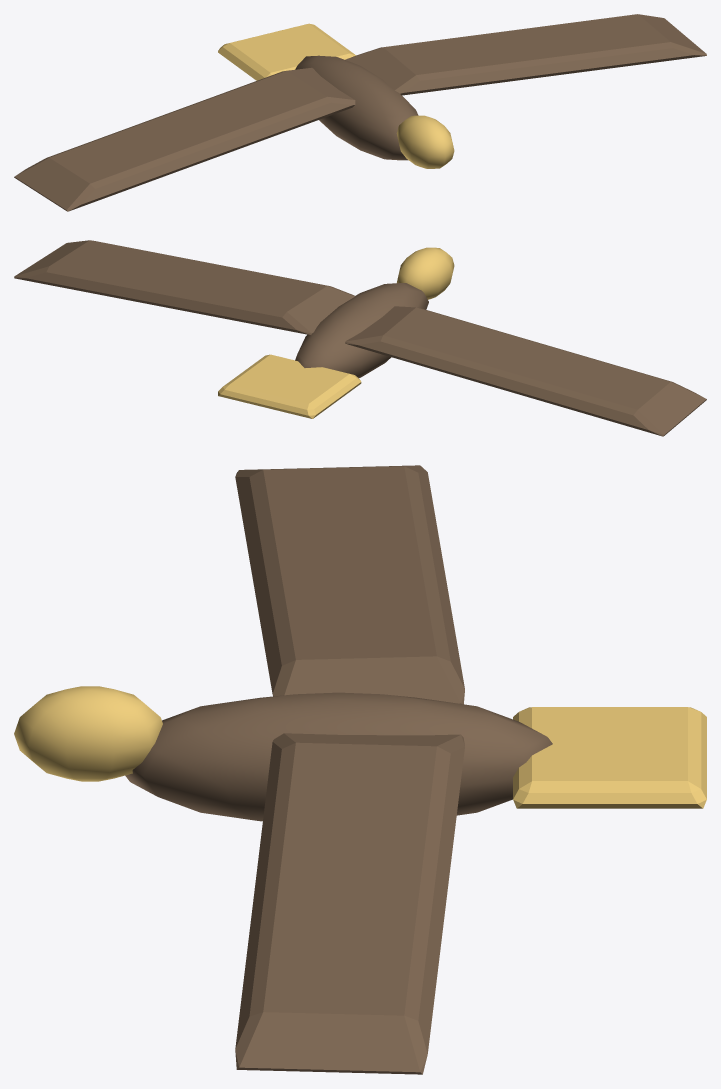
File: Caucasian_Golden_Eagle.glb
3 renders of one model, top to bottom at view 1: azimuth 30°, elevation 25°; view 2: azimuth 150°, elevation 25°; view 3: azimuth 270°, elevation 25°, orthographic. The views are drawn at different scales.
Visible parts, largest first — view 1: WingL, WingR, EagleTorso, TailFan, EagleHead; view 2: WingL, WingR, EagleTorso, TailFan, EagleHead; view 3: WingR, WingL, EagleTorso, TailFan, EagleHead.
Part boxes in pixels (left/top/right/bottom): WingL: left=14, top=67, right=355, bottom=211; WingR: left=345, top=14, right=706, bottom=95; EagleTorso: left=295, top=55, right=418, bottom=160; TailFan: left=218, top=23, right=355, bottom=80; EagleHead: left=396, top=115, right=454, bottom=168; WingL: left=345, top=306, right=706, bottom=436; WingR: left=14, top=240, right=355, bottom=335; EagleTorso: left=295, top=283, right=428, bottom=377; TailFan: left=218, top=354, right=361, bottom=418; EagleHead: left=397, top=247, right=454, bottom=299; WingR: left=235, top=733, right=464, bottom=1074; WingL: left=235, top=465, right=464, bottom=704; EagleTorso: left=125, top=692, right=552, bottom=821; TailFan: left=513, top=707, right=706, bottom=808; EagleHead: left=14, top=686, right=162, bottom=781.
Size of the model in its own units: 2.54 by 0.2502 by 1.23.
